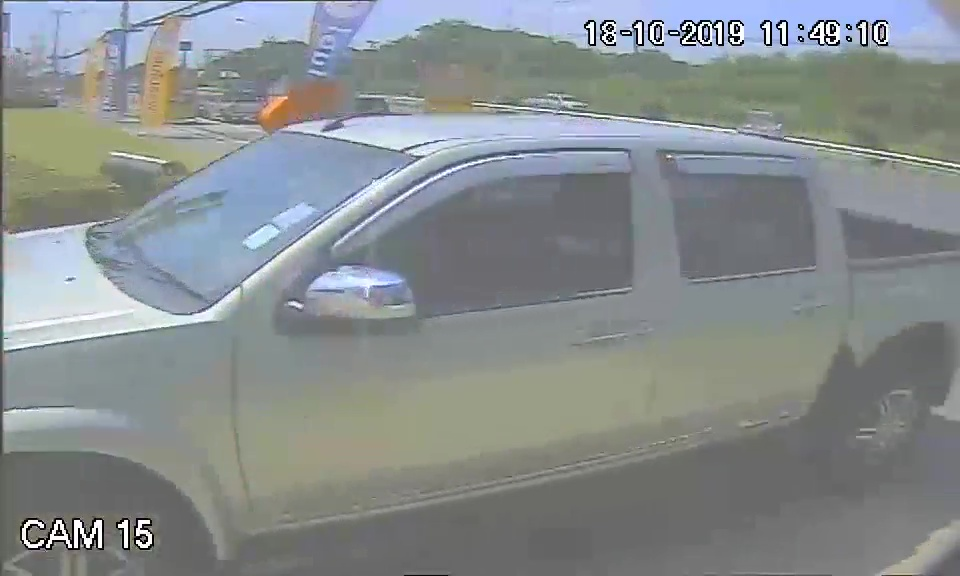pickup: (8, 113, 949, 528)
